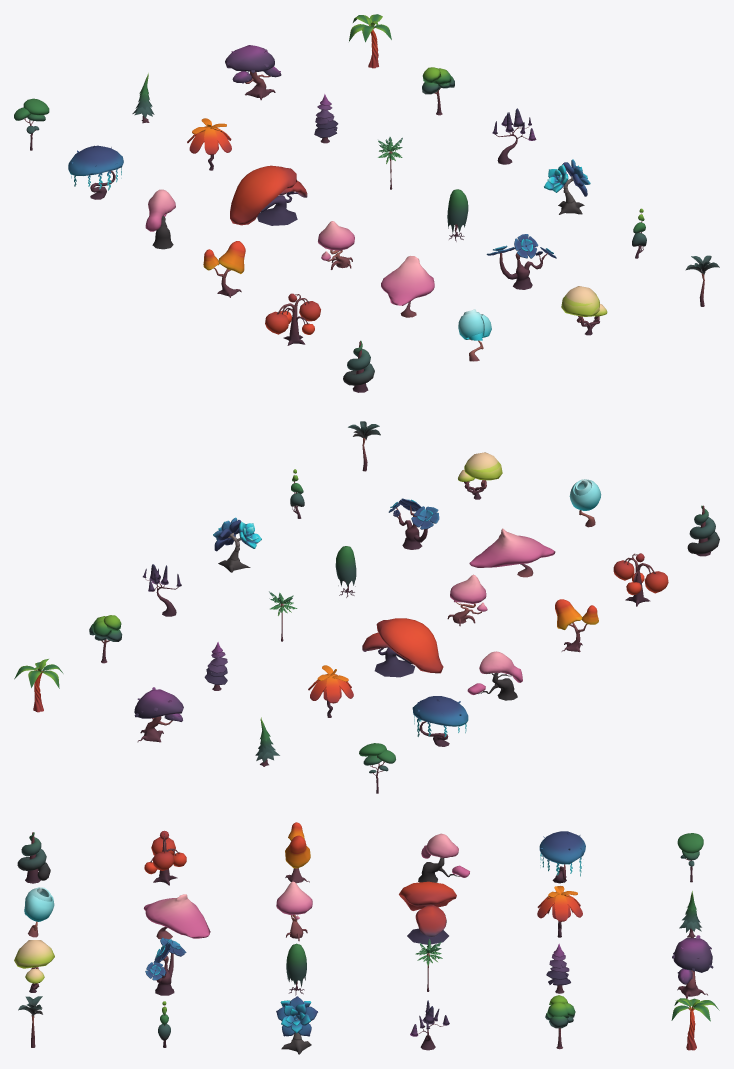
File: Trees_Pack_02.fbx
3 renders of one model, top to bottom at view 1: azimuth 30°, elevation 25°; view 2: azimuth 150°, elevation 25°; view 3: azimuth 270°, elevation 25°, orthographic.
Parts seen in each view (by area): view 1: Tree.023, Tree.009, Tree.029, Tree.036, Tree.008, Tree.010, Tree.018, Tree.003, Tree.022, Tree.016, Tree.030, Tree.015 (+8 smaller); view 2: Tree.023, Tree.009, Tree.029, Tree.036, Tree.008, Tree.022, Tree.018, Tree.010, Tree.003, Tree.016, Tree.030, Tree.015 (+8 smaller); view 3: Tree.023, Tree.009, Tree.036, Tree.029, Tree.018, Tree.022, Tree.008, Tree.003, Tree.010, Tree.030, Tree.016, Tree.001 (+11 smaller).
Part boxes in pixels (x1,y1,x2,y2): Tree.023: (230, 165, 307, 225); Tree.009: (381, 256, 434, 317); Tree.029: (68, 145, 123, 199); Tree.036: (225, 45, 281, 100); Tree.008: (265, 293, 320, 345); Tree.010: (486, 234, 556, 289); Tree.018: (544, 159, 590, 214); Tree.003: (561, 286, 607, 335); Tree.022: (145, 189, 175, 249); Tree.016: (318, 221, 354, 269); Tree.030: (187, 118, 231, 170); Tree.015: (203, 241, 245, 297); Tree.023: (362, 618, 443, 677); Tree.009: (469, 528, 555, 577); Tree.029: (412, 696, 468, 746); Tree.036: (134, 687, 183, 742); Tree.008: (613, 553, 668, 606); Tree.022: (467, 651, 522, 700); Tree.018: (213, 517, 261, 572); Tree.010: (388, 498, 439, 549); Tree.003: (458, 452, 502, 499); Tree.016: (447, 574, 487, 626); Tree.030: (308, 665, 353, 717); Tree.015: (555, 599, 598, 652); Tree.023: (399, 881, 456, 944); Tree.009: (143, 894, 210, 939); Tree.036: (672, 935, 713, 998); Tree.029: (539, 831, 585, 883); Tree.018: (276, 996, 317, 1054); Tree.022: (418, 833, 469, 882); Tree.008: (144, 830, 186, 885); Tree.003: (14, 940, 54, 992); Tree.010: (145, 937, 186, 995); Tree.030: (537, 886, 582, 937); Tree.016: (276, 881, 312, 941); Tree.001: (17, 832, 50, 883).
Size of the model in its own units: 864 by 104 by 1330.
